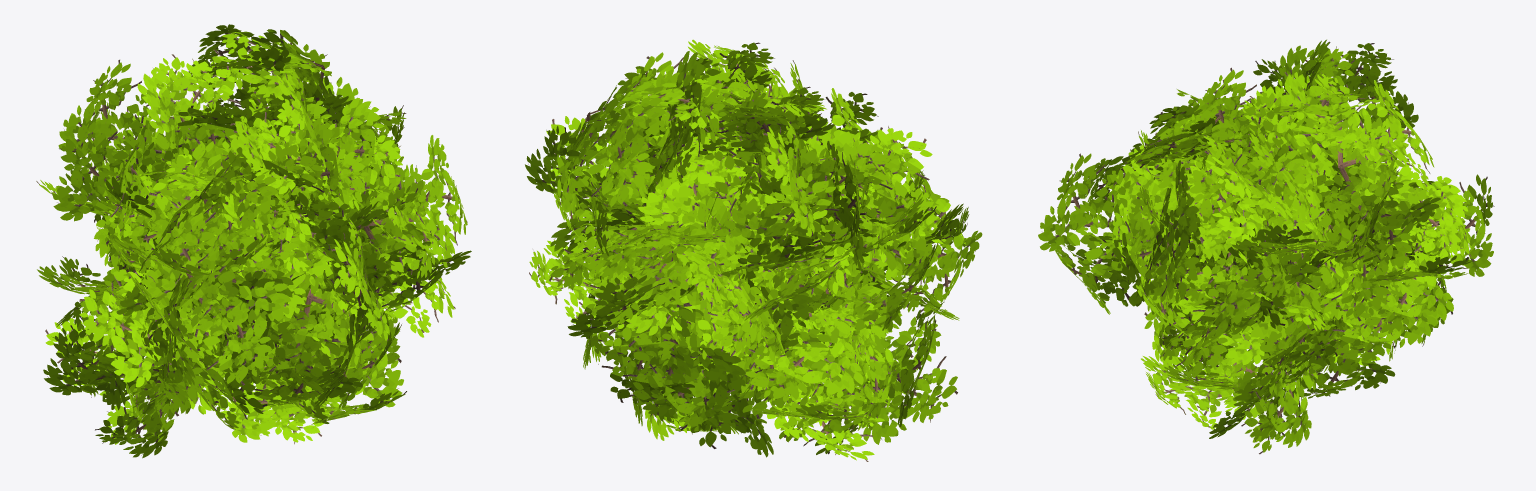
Rendered from tree_leaves.glb.
3 views of the same model, side by side, from view 1: azimuth 30°, elevation 25°; view 2: azimuth 150°, elevation 25°; view 3: azimuth 270°, elevation 25° (orthographic). The views are drawn at different scales.
Parts seen in each view (by area): view 1: tree_leafs2.145; view 2: tree_leafs2.145; view 3: tree_leafs2.145.
Part boxes in pixels (x1,y1,x2,y2): tree_leafs2.145: [36, 24, 471, 458]; tree_leafs2.145: [525, 39, 982, 461]; tree_leafs2.145: [1038, 39, 1494, 454].
Bounding box in the file's own units: 14.28 × 14.47 × 16.63.
1 material, 1 textured.
